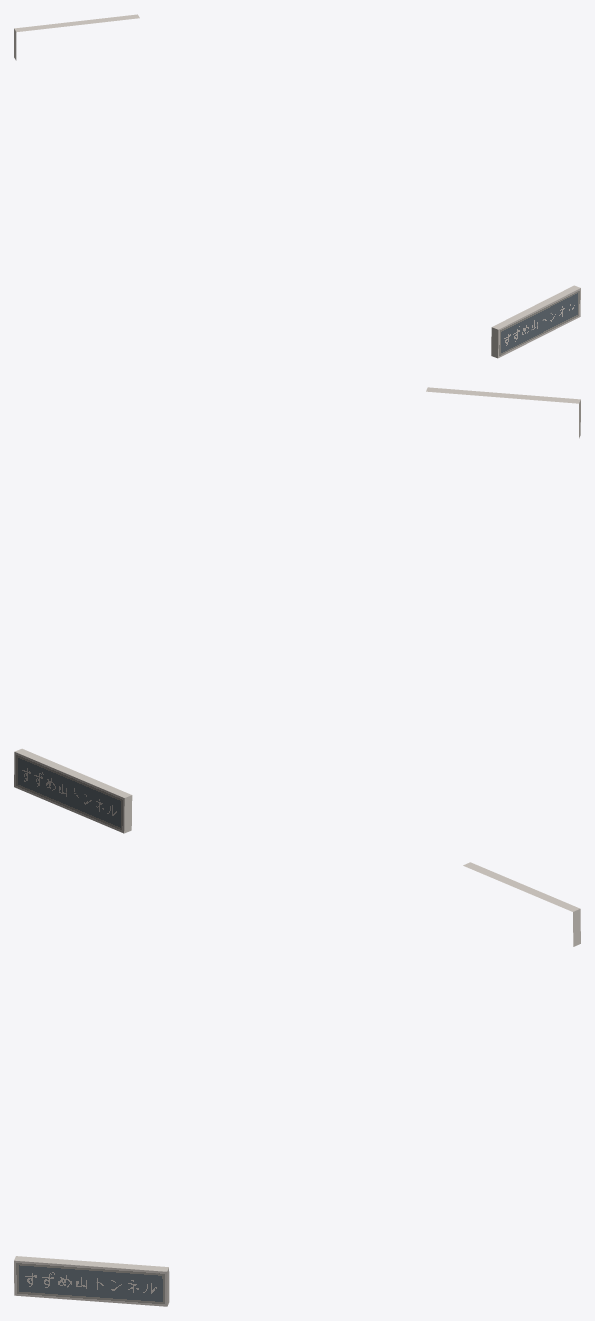
Rendered from kd_stage_136282_5_61.glb.
3 renders of one model, top to bottom at view 1: azimuth 30°, elevation 25°; view 2: azimuth 150°, elevation 25°; view 3: azimuth 330°, elevation 25°, orthographic. The views are drawn at different scales.
Parts seen in each view (by area): view 1: kd_stage_136282_5_61; view 2: kd_stage_136282_5_61; view 3: kd_stage_136282_5_61.
Part boxes in pixels (x1,y1,x2,y2): kd_stage_136282_5_61: (14,14,580,358); kd_stage_136282_5_61: (14,387,580,833); kd_stage_136282_5_61: (14,862,580,1306).
Bounding box in the file's own units: 5.22 × 0.9242 × 24.18.
Materials: 1 (1 with a texture image).
